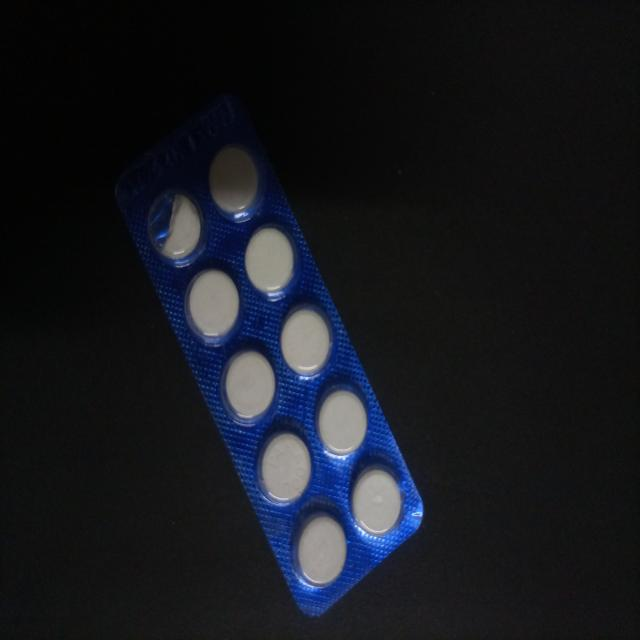defect: (144, 186, 207, 267)
